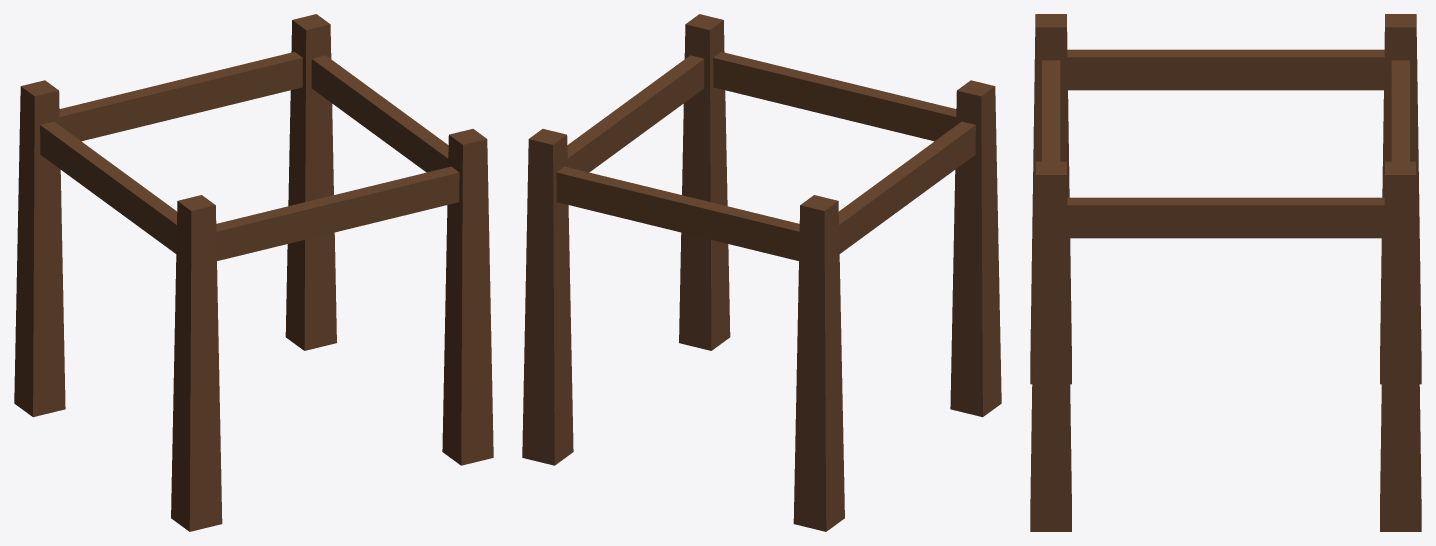
Rendered from kenney_survival-kit__structure__cave.fbx.
3 views of the same model, side by side, from view 1: azimuth 30°, elevation 25°; view 2: azimuth 150°, elevation 25°; view 3: azimuth 270°, elevation 25° (orthographic). The views are drawn at different scales.
Visible parts, largest first — view 1: kenney_survival-kit__structure__cave_wood; view 2: kenney_survival-kit__structure__cave_wood; view 3: kenney_survival-kit__structure__cave_wood.
Boxes of the visible parts, x1,y1,x2,y2 form: kenney_survival-kit__structure__cave_wood: (14, 14, 493, 531); kenney_survival-kit__structure__cave_wood: (522, 14, 1001, 531); kenney_survival-kit__structure__cave_wood: (1030, 14, 1421, 531).
Bounding box in the file's own units: 1.79 × 1.79 × 1.79.
1 material, 1 textured.
